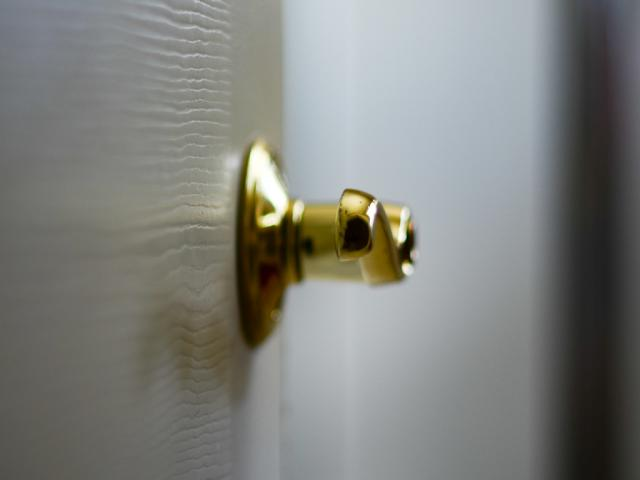Door-handle: (235, 134, 420, 344)
